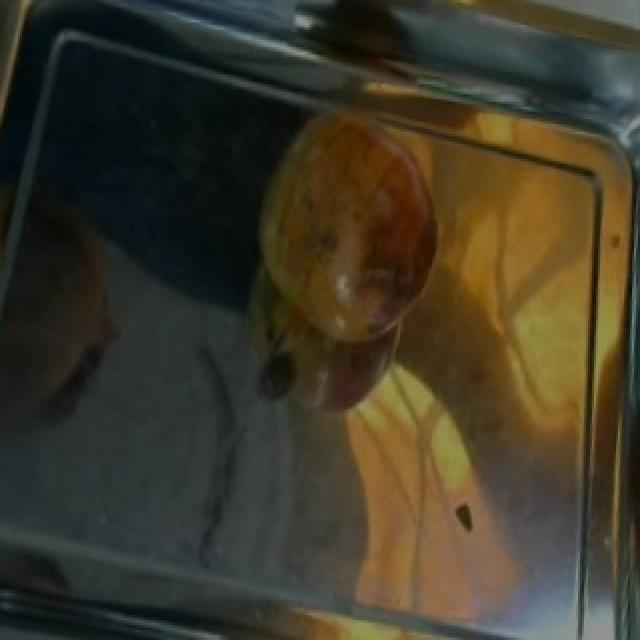fruit: (240, 86, 464, 364)
